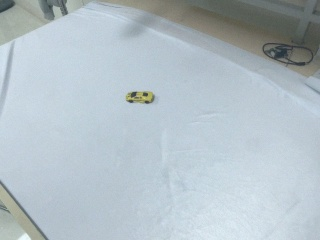toy_car: (126, 92, 155, 104)
